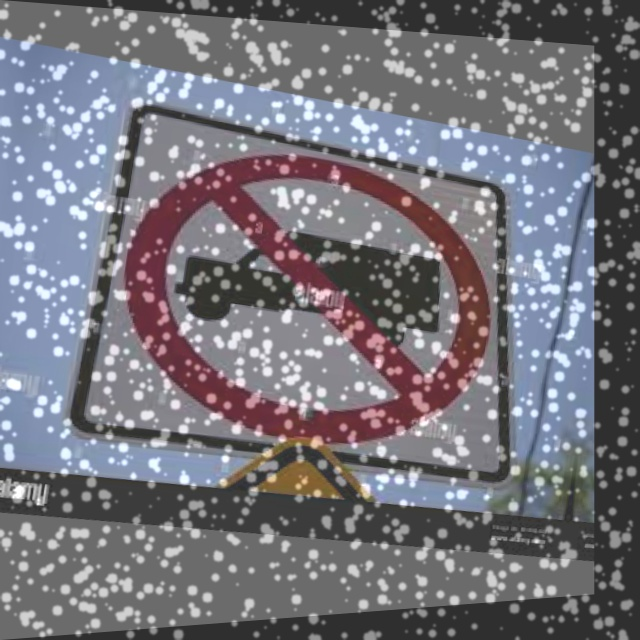Truck_Prohibited: (105, 121, 519, 470)
